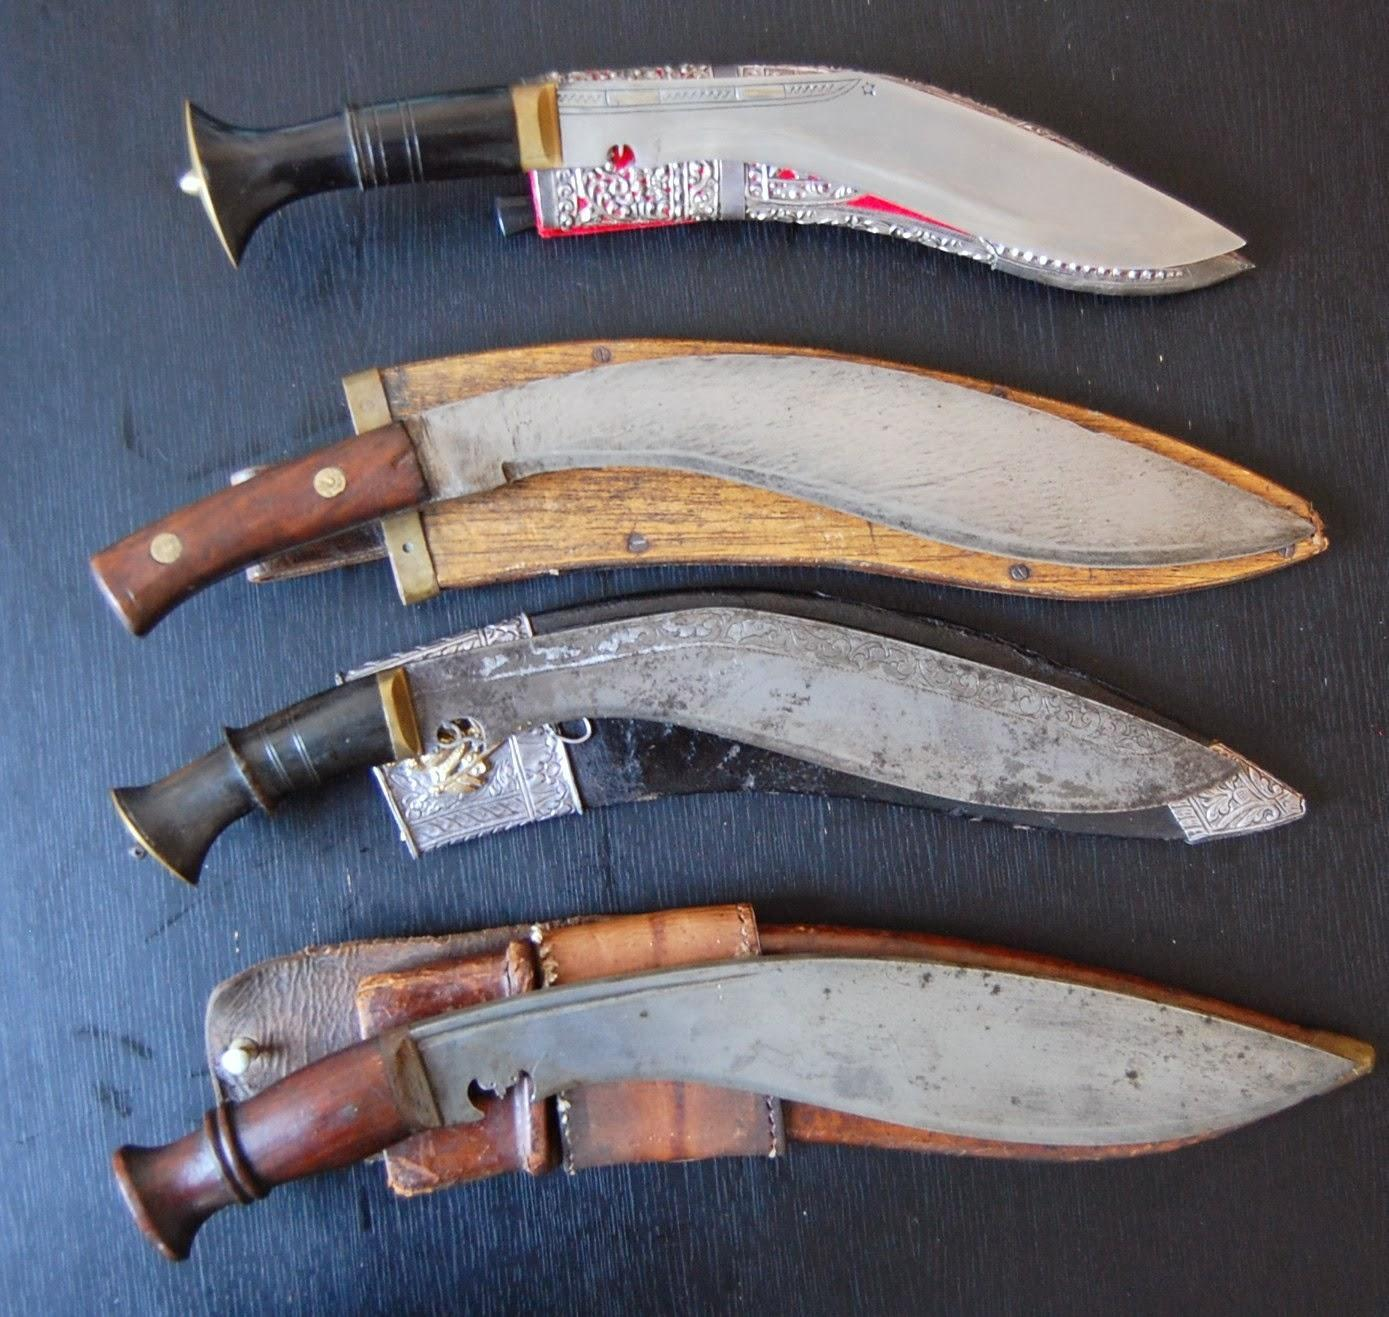facao: (102, 347, 1318, 642), (94, 935, 1389, 1196), (104, 602, 1250, 890), (166, 59, 1250, 290)
